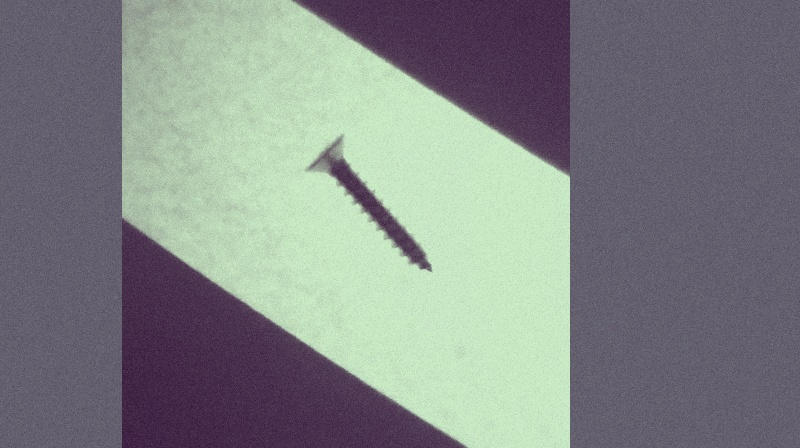S001: (299, 129, 434, 273)
